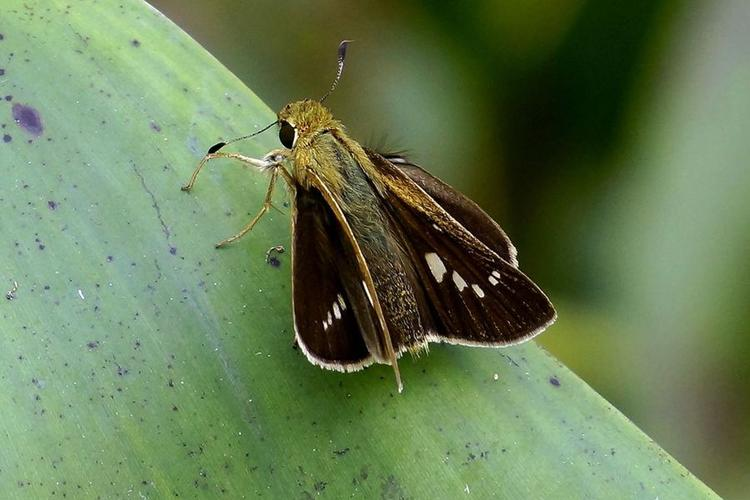Hesperiidae: (190, 36, 562, 397)
